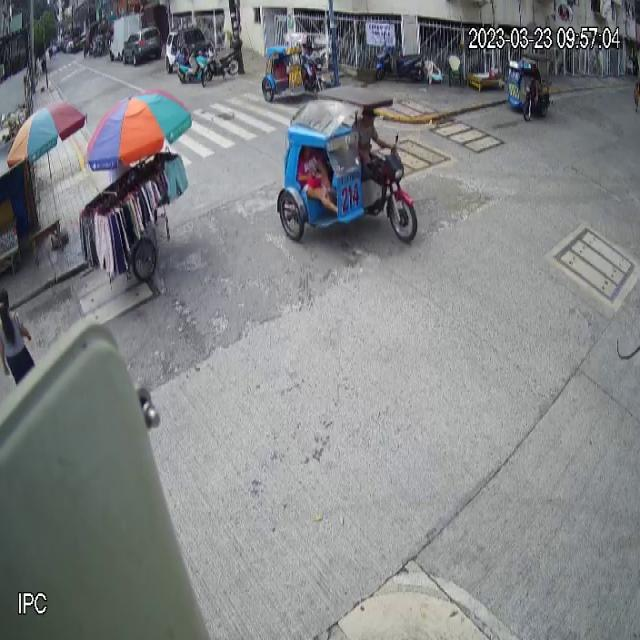Tricycle: (277, 81, 418, 256), (261, 32, 324, 104)
